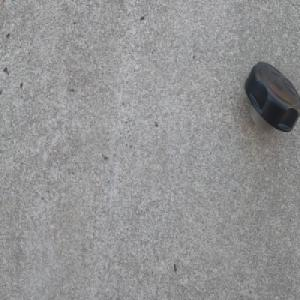FuelCap: (244, 59, 300, 134)
